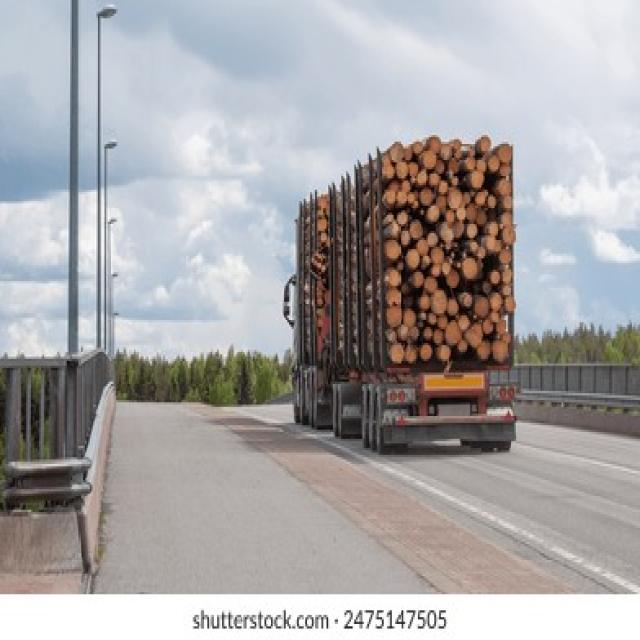Truck: (281, 128, 524, 455)
